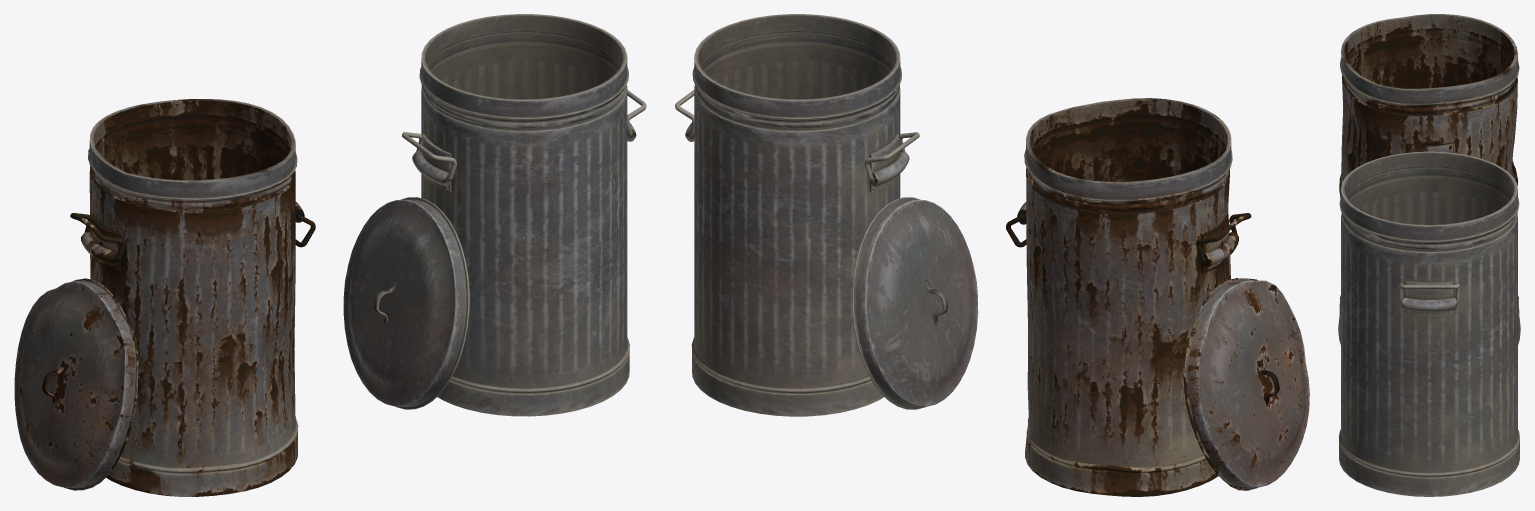
The model's file is trash_can.glb.
3 renders of one model, left to right at view 1: azimuth 30°, elevation 25°; view 2: azimuth 150°, elevation 25°; view 3: azimuth 270°, elevation 25°, orthographic. The views are drawn at different scales.
Parts seen in each view (by area): view 1: metal_trash_can, metal_trash_can_rust, metal_trash_can_lid, metal_trash_can_rust_lid; view 2: metal_trash_can, metal_trash_can_rust, metal_trash_can_lid, metal_trash_can_rust_lid; view 3: metal_trash_can, metal_trash_can_rust, metal_trash_can_handle_right.
Part boxes in pixels (x1,y1,x2,y2): metal_trash_can: (412,14,636,416); metal_trash_can_rust: (81,99,304,496); metal_trash_can_lid: (343,197,469,409); metal_trash_can_rust_lid: (14,278,138,490); metal_trash_can: (685,14,909,416); metal_trash_can_rust: (1017,98,1238,496); metal_trash_can_lid: (852,197,978,409); metal_trash_can_rust_lid: (1183,278,1309,490); metal_trash_can: (1338,151,1519,496); metal_trash_can_rust: (1339,14,1519,316); metal_trash_can_handle_right: (1399,283,1459,303).
Bounding box in the file's own units: 1.77 × 0.9 × 0.5525.
Materials: 2 (2 with a texture image).
